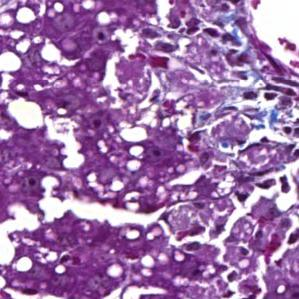inflammation: (226, 158, 296, 211)
